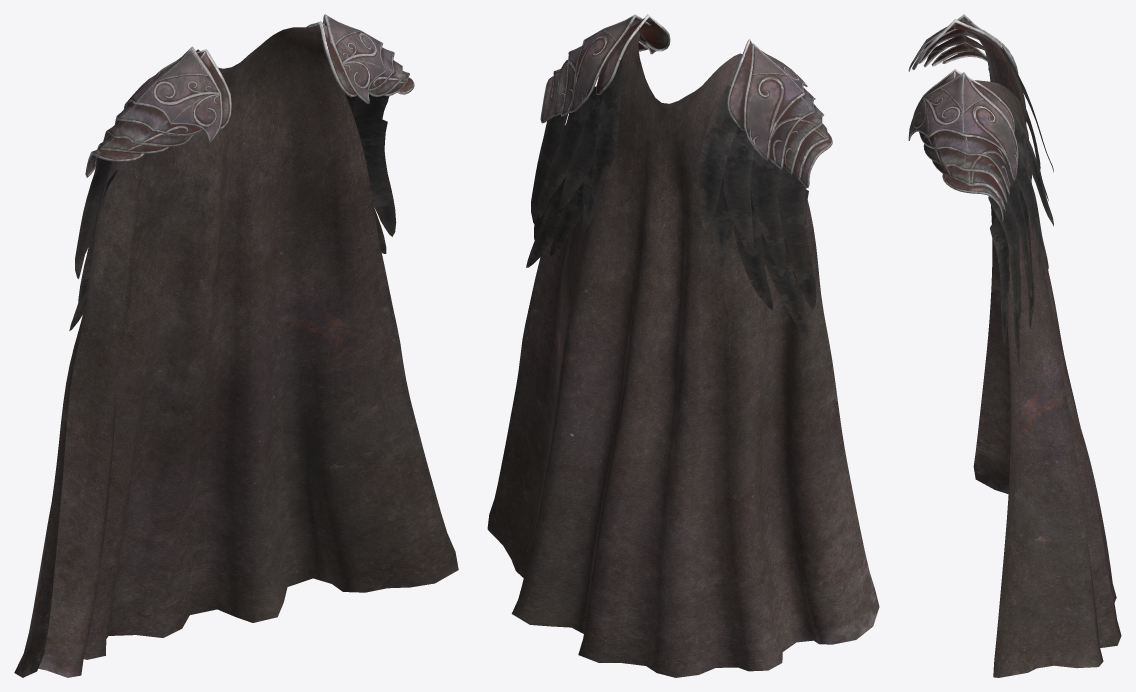
Rendered from thranduil_shoulder.fbx.
The picture shows the model from 3 angles, left to right: view 1: azimuth 30°, elevation 25°; view 2: azimuth 150°, elevation 25°; view 3: azimuth 270°, elevation 25°; orthographic projection. The views are drawn at different scales.
Parts seen in each view (by area): view 1: thranduil_shoulder; view 2: thranduil_shoulder; view 3: thranduil_shoulder.
Boxes of the visible parts, x1,y1,x2,y2 form: thranduil_shoulder: (14, 14, 458, 677); thranduil_shoulder: (487, 14, 879, 677); thranduil_shoulder: (908, 14, 1121, 677).
Bounding box in the file's own units: 1.05 × 0.4968 × 1.51.
Materials: 1 (1 with a texture image).
